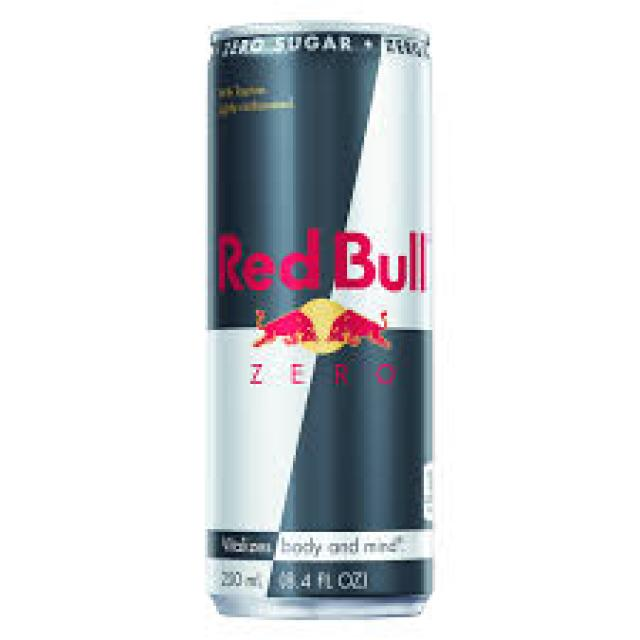red-bull: (192, 21, 436, 614)
